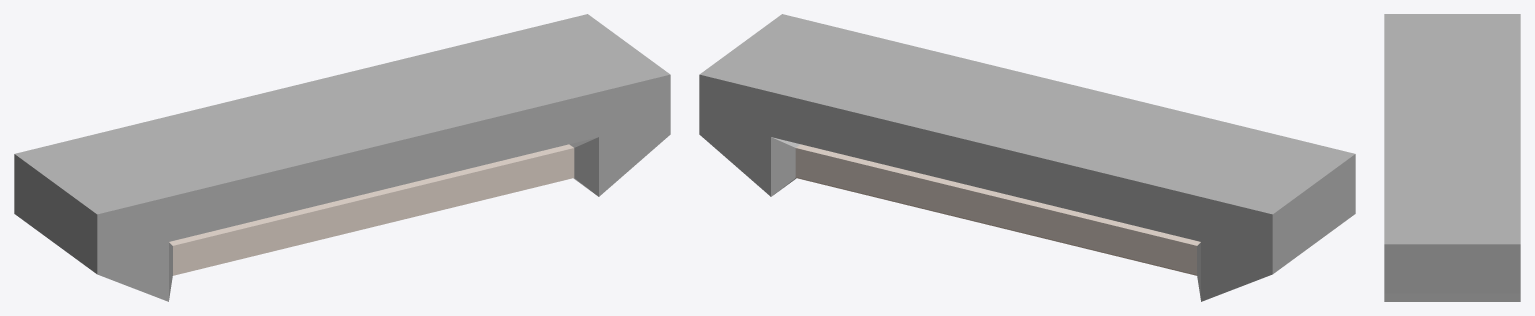
The model's file is lamp.fbx.
3 renders of one model, left to right at view 1: azimuth 30°, elevation 25°; view 2: azimuth 150°, elevation 25°; view 3: azimuth 270°, elevation 25°, orthographic. The views are drawn at different scales.
Visible parts, largest first — view 1: cuboid; view 2: cuboid; view 3: cuboid.
Boxes of the visible parts, x1,y1,x2,y2 form: cuboid: (14, 14, 670, 301); cuboid: (699, 14, 1355, 301); cuboid: (1384, 14, 1520, 301).
Size of the model in its own units: 25 by 4.38 by 6.25.
1 material, 1 textured.
